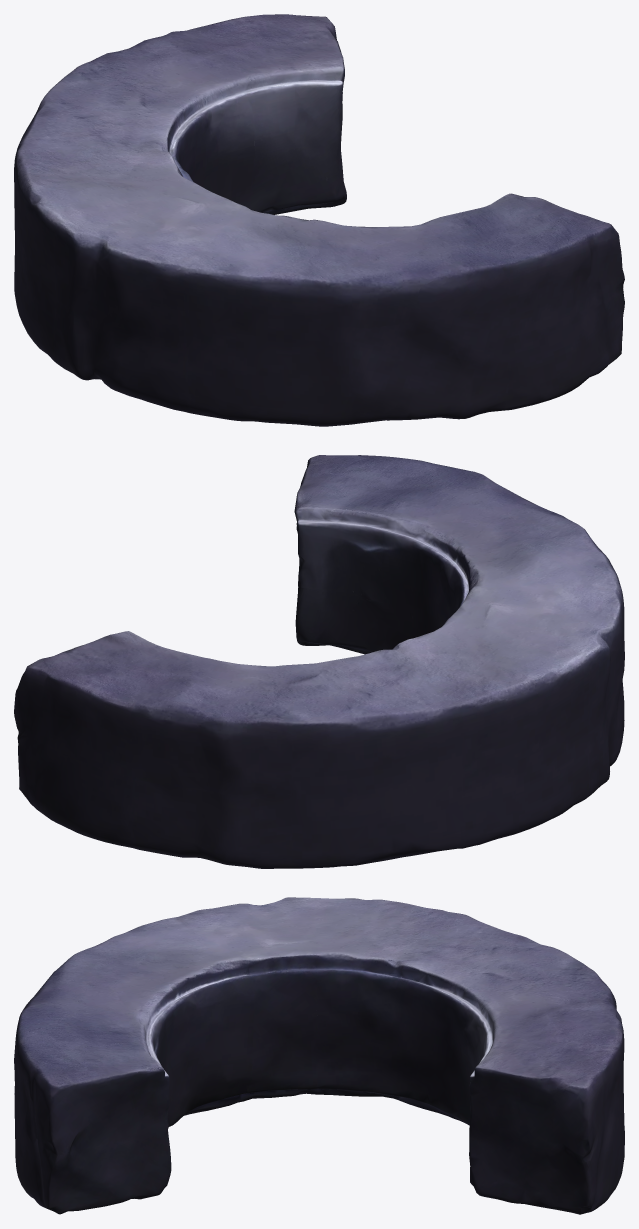
Rendered from rim-web-256.glb.
3 renders of one model, top to bottom at view 1: azimuth 30°, elevation 25°; view 2: azimuth 150°, elevation 25°; view 3: azimuth 270°, elevation 25°, orthographic. The views are drawn at different scales.
Visible parts, largest first — view 1: tripo_node_853319fc-6014-4e09-a7b0-331f0e806019; view 2: tripo_node_853319fc-6014-4e09-a7b0-331f0e806019; view 3: tripo_node_853319fc-6014-4e09-a7b0-331f0e806019.
Part boxes in pixels (x1,y1,x2,y2): tripo_node_853319fc-6014-4e09-a7b0-331f0e806019: [14, 14, 624, 426]; tripo_node_853319fc-6014-4e09-a7b0-331f0e806019: [14, 455, 624, 868]; tripo_node_853319fc-6014-4e09-a7b0-331f0e806019: [14, 897, 624, 1214].
Bounding box in the file's own units: 0.7579 × 0.2594 × 0.9998.
1 material, 1 textured.
